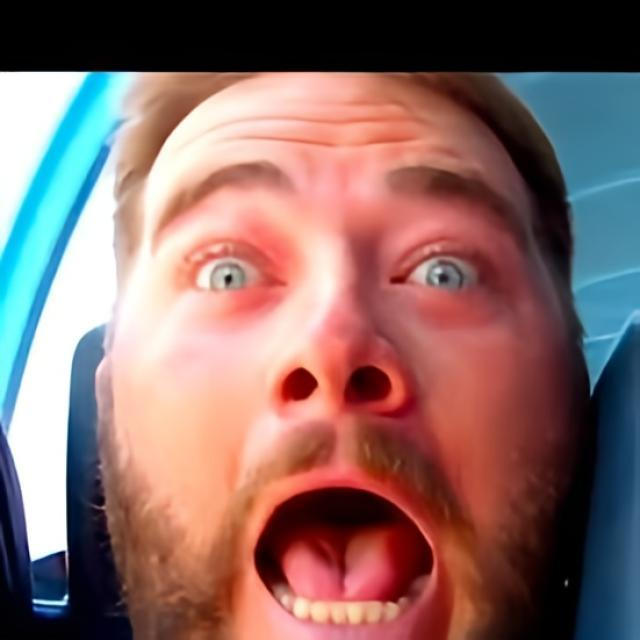fear: (109, 71, 579, 640)
